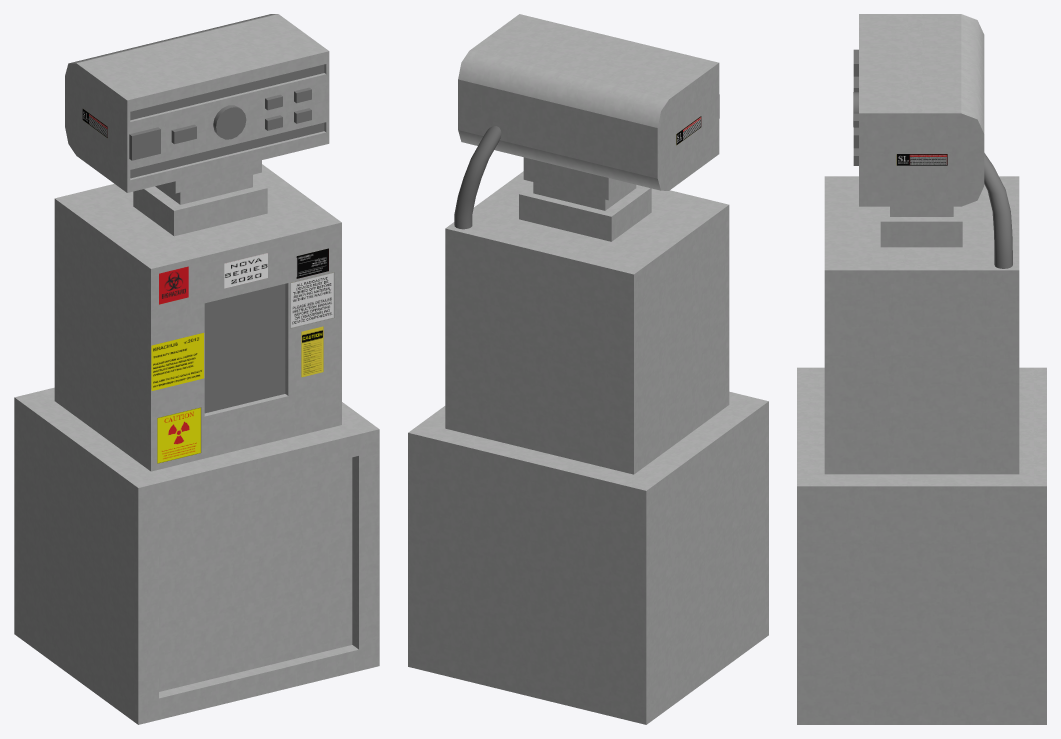
The model's file is BloodIrradiator.fbx.
3 views of the same model, side by side, from view 1: azimuth 30°, elevation 25°; view 2: azimuth 150°, elevation 25°; view 3: azimuth 270°, elevation 25° (orthographic). The views are drawn at different scales.
Parts seen in each view (by area): view 1: propBloodIrradiator; view 2: propBloodIrradiator; view 3: propBloodIrradiator.
Part boxes in pixels (x1,y1,x2,y2): propBloodIrradiator: [14, 14, 379, 724]; propBloodIrradiator: [408, 14, 768, 724]; propBloodIrradiator: [797, 14, 1046, 724].
Size of the model in its own units: 74.22 by 176 by 66.06.
Materials: 5 (2 with a texture image).
